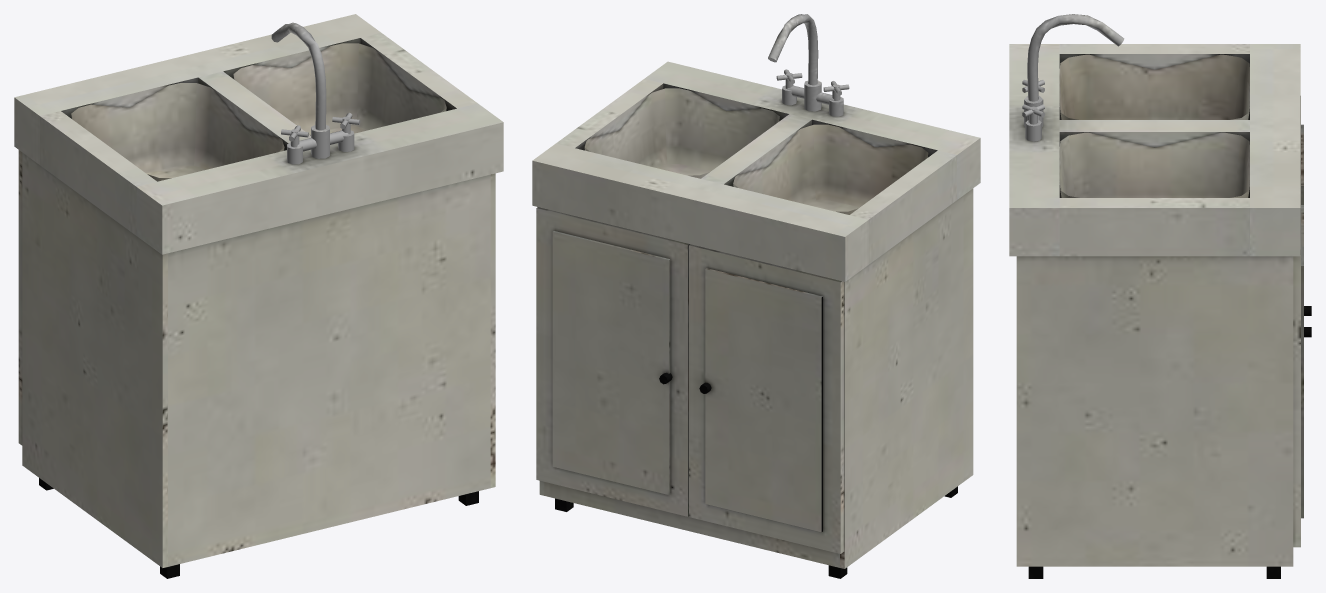
File: sink_cabinet_lod1_web.glb
3 views of the same model, side by side, from view 1: azimuth 30°, elevation 25°; view 2: azimuth 150°, elevation 25°; view 3: azimuth 270°, elevation 25° (orthographic). The views are drawn at different scales.
Visible parts, largest first — view 1: SinkCabinet_Body, Chrome_FaucetBody, Chrome_Spout, Door_R_Mesh; view 2: SinkCabinet_Body, Door_R_Mesh, Door_L_Mesh, Chrome_FaucetBody, Chrome_Spout; view 3: SinkCabinet_Body, Door_L_Mesh, Chrome_Spout, Chrome_FaucetBody, Door_R_Mesh.
Part boxes in pixels (x1,y1,x2,y2): SinkCabinet_Body: (14, 14, 503, 578); Chrome_FaucetBody: (281, 112, 360, 164); Chrome_Spout: (271, 22, 326, 130); Door_R_Mesh: (18, 150, 22, 445); SinkCabinet_Body: (532, 61, 980, 578); Door_R_Mesh: (689, 244, 844, 553); Door_L_Mesh: (536, 207, 689, 516); Chrome_FaucetBody: (776, 69, 849, 116); Chrome_Spout: (768, 14, 818, 85); SinkCabinet_Body: (1009, 44, 1300, 578); Door_L_Mesh: (1293, 176, 1311, 547); Chrome_Spout: (1027, 14, 1124, 101); Chrome_FaucetBody: (1022, 79, 1044, 141); Door_R_Mesh: (1300, 96, 1311, 315).
Size of the model in its own units: 0.8 by 1.11 by 0.623.
2 materials, 2 textured.
